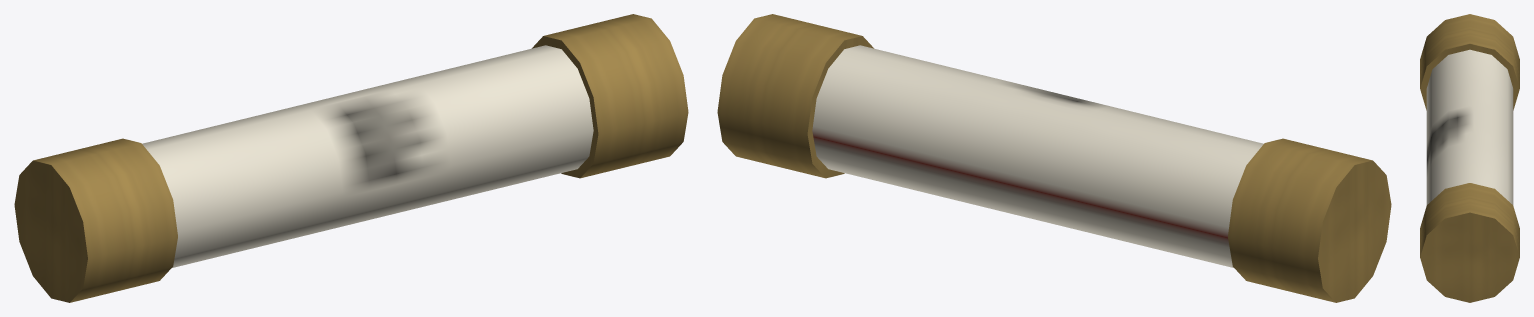
Rendered from fuse.fbx.
3 renders of one model, left to right at view 1: azimuth 30°, elevation 25°; view 2: azimuth 150°, elevation 25°; view 3: azimuth 270°, elevation 25°, orthographic. The views are drawn at different scales.
Visible parts, largest first — view 1: fuse; view 2: fuse; view 3: fuse.
Part boxes in pixels (x1,y1,x2,y2): fuse: [14, 14, 688, 302]; fuse: [717, 14, 1391, 302]; fuse: [1420, 14, 1519, 302].
Bounding box in the file's own units: 0.26 × 0.0552 × 0.0552.
Materials: 1 (1 with a texture image).
